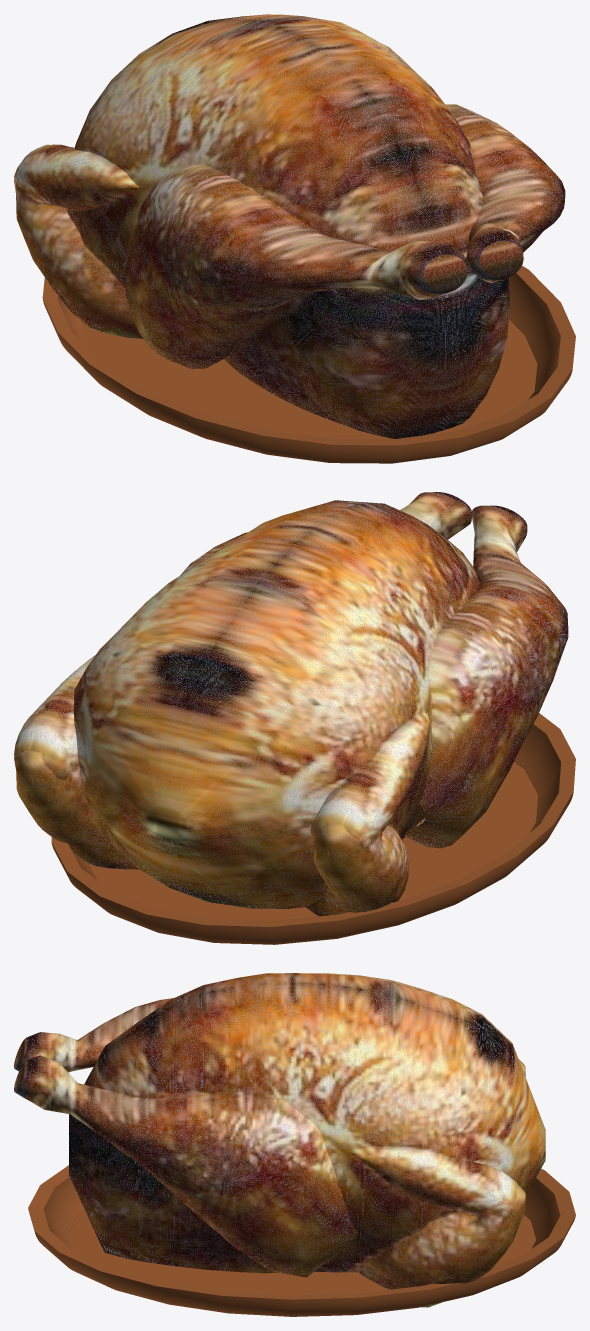
The model's file is ACC_FOOD_11.fbx.
3 views of the same model, one above another, from view 1: azimuth 30°, elevation 25°; view 2: azimuth 150°, elevation 25°; view 3: azimuth 270°, elevation 25° (orthographic). The views are drawn at different scales.
Visible parts, largest first — view 1: Group2, Component_1_2, wooden_plate1, Component_3_2, Component_1_1; view 2: Group2, Component_1_2, wooden_plate1, Component_3_2, Component_3_1, Component_1_1; view 3: Group2, Component_1_1, wooden_plate1, Component_3_1, Component_1_2.
Part boxes in pixels (x1,y1,x2,y2): Group2: (67, 14, 509, 438); Component_1_2: (124, 164, 467, 368); wooden_plate1: (42, 265, 575, 463); Component_3_2: (14, 144, 143, 338); Component_1_1: (445, 104, 565, 282); Group2: (73, 500, 479, 908); Component_1_2: (404, 505, 568, 848); wooden_plate1: (51, 713, 575, 944); Component_3_2: (305, 711, 429, 916); Component_3_1: (14, 655, 139, 869); Component_1_1: (180, 492, 471, 575); Group2: (69, 973, 545, 1273); Component_1_1: (14, 1055, 357, 1277); wooden_plate1: (28, 1165, 575, 1316); Component_3_1: (348, 1146, 525, 1307); Component_1_2: (14, 998, 173, 1072).
Bounding box in the file's own units: 16.08 × 12.5 × 21.62.
